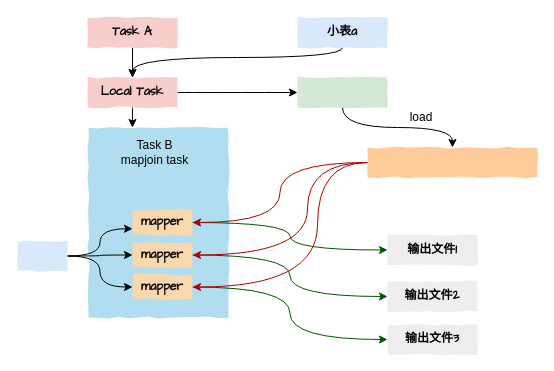
Some shapes in this 554 by 371 pixel diagram are drawn without their labels. The shapes that lost their labels are listed below. From the top down, each one's centre as x and y in pixels, then its label:
point 342,92: HashTable File
point 452,162: Distribute cache (分布式缓存)
point 42,255: 表b
